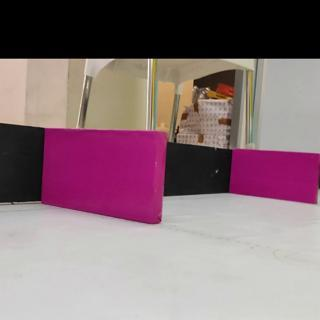xparking: (55, 132, 162, 219), (231, 156, 317, 196)
